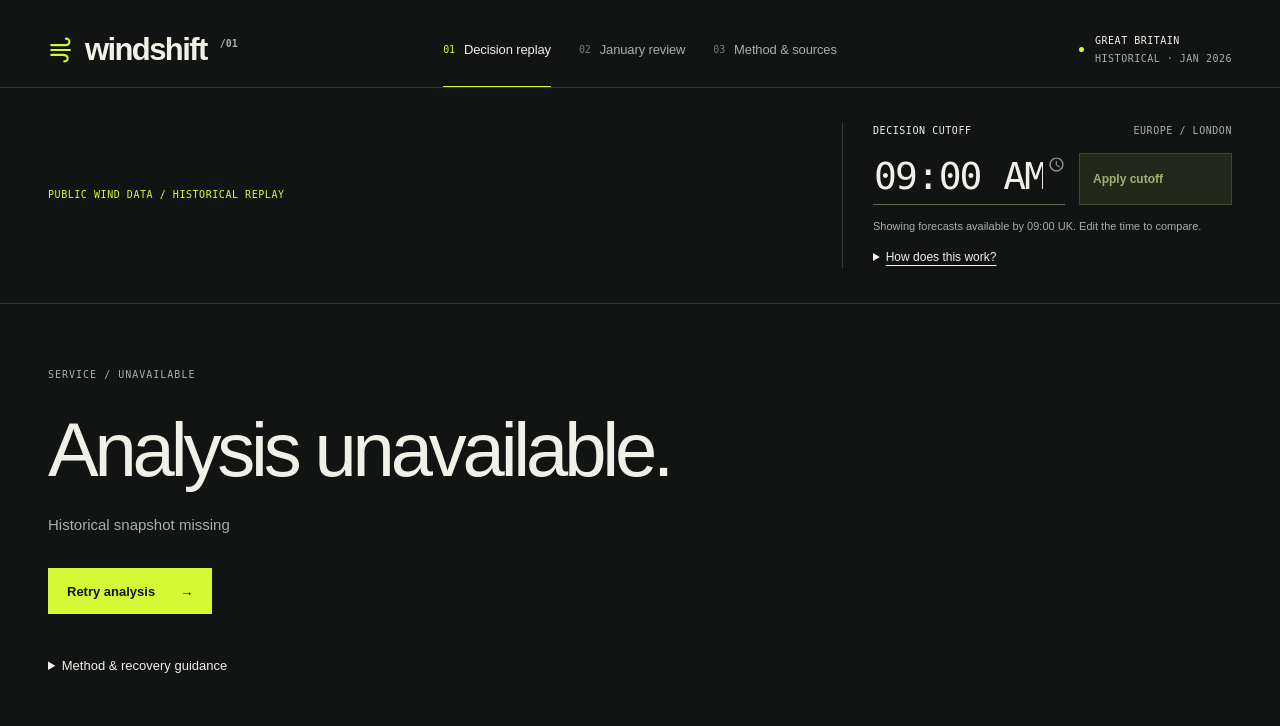
it: decision replay › recovers from an API failure through retry
This screenshot has width=1280, height=726.
Expected: the message that starts with "SERVICE / UNAVAILABLE" shows "Historical snapshot missing", [48, 516, 230, 534]
Click the heading "Method & recovery guidance".
click(145, 666)  # box [62, 658, 227, 674]
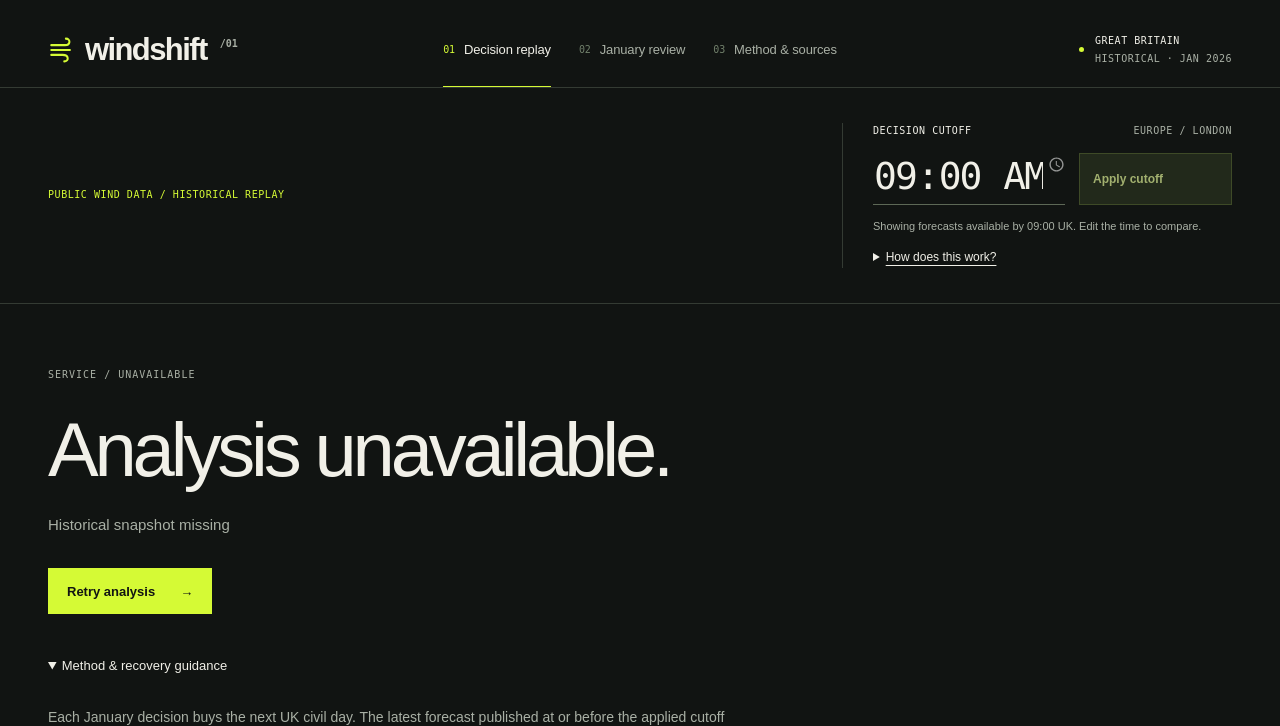
Click the button "Retry analysis →".
click(130, 592)  # box [48, 568, 212, 614]
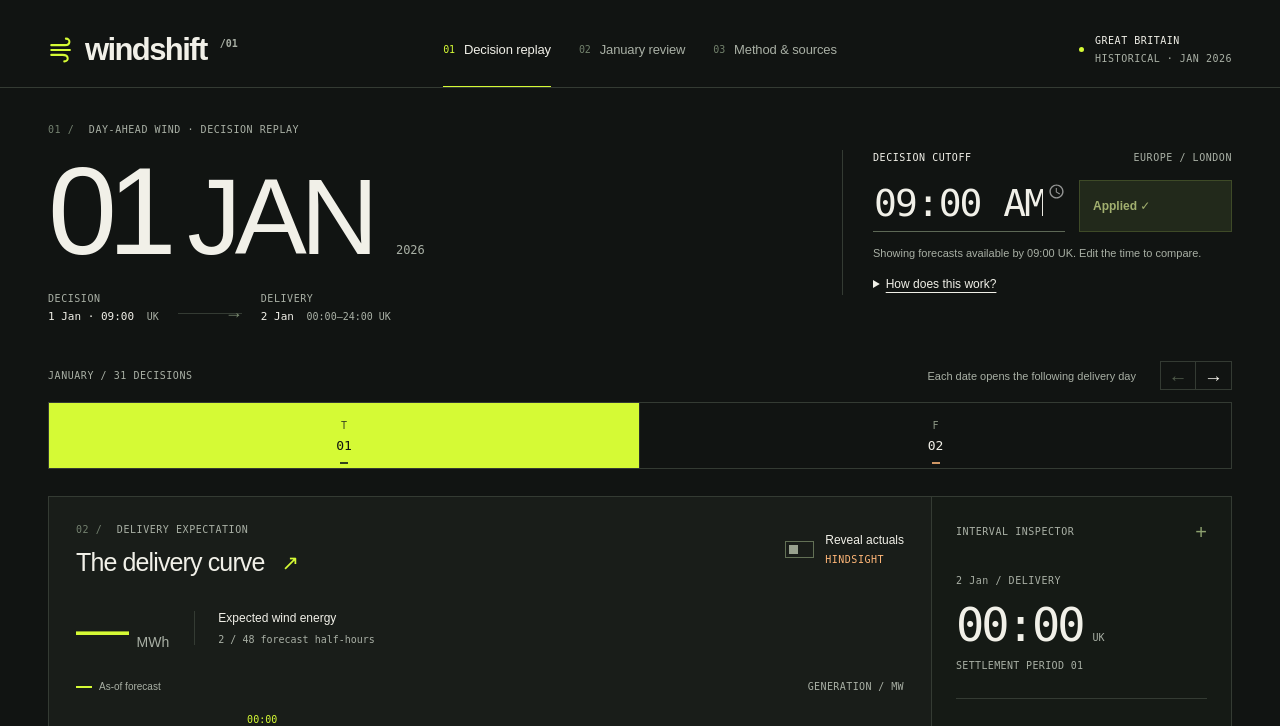
Now the heading "The delivery curve ↗" is shown, box [76, 549, 298, 577]
